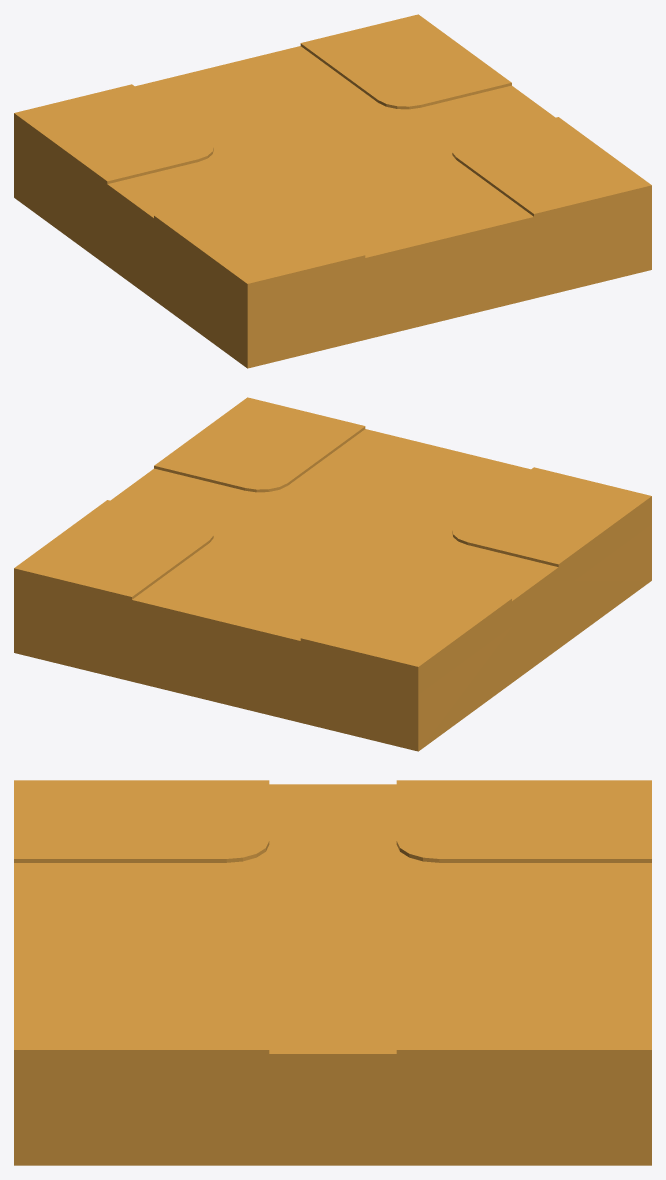
Rendered from tile-road-mainroad-intersection.glb.
3 renders of one model, top to bottom at view 1: azimuth 30°, elevation 25°; view 2: azimuth 150°, elevation 25°; view 3: azimuth 270°, elevation 25°, orthographic. The views are drawn at different scales.
Visible parts, largest first — view 1: tile-road-mainroad-intersection; view 2: tile-road-mainroad-intersection; view 3: tile-road-mainroad-intersection.
Boxes of the visible parts, x1,y1,x2,y2 form: tile-road-mainroad-intersection: (14,14,651,368); tile-road-mainroad-intersection: (14,397,651,751); tile-road-mainroad-intersection: (14,780,651,1165).
Size of the model in its own units: 30 by 6 by 30.
